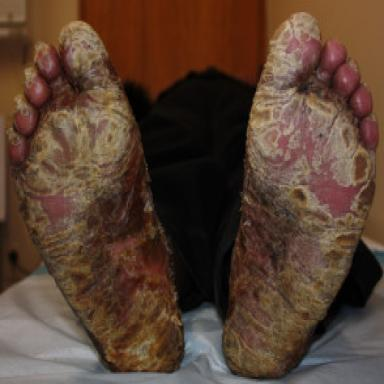eczema: (9, 22, 184, 371), (223, 13, 375, 377)
